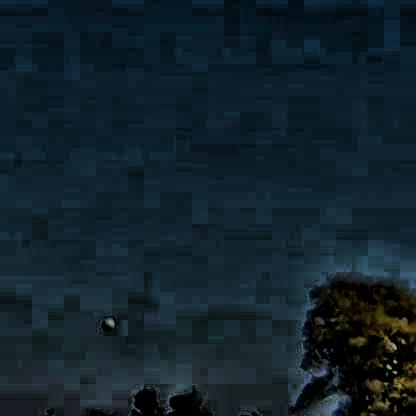golfball: (98, 314, 112, 329)
